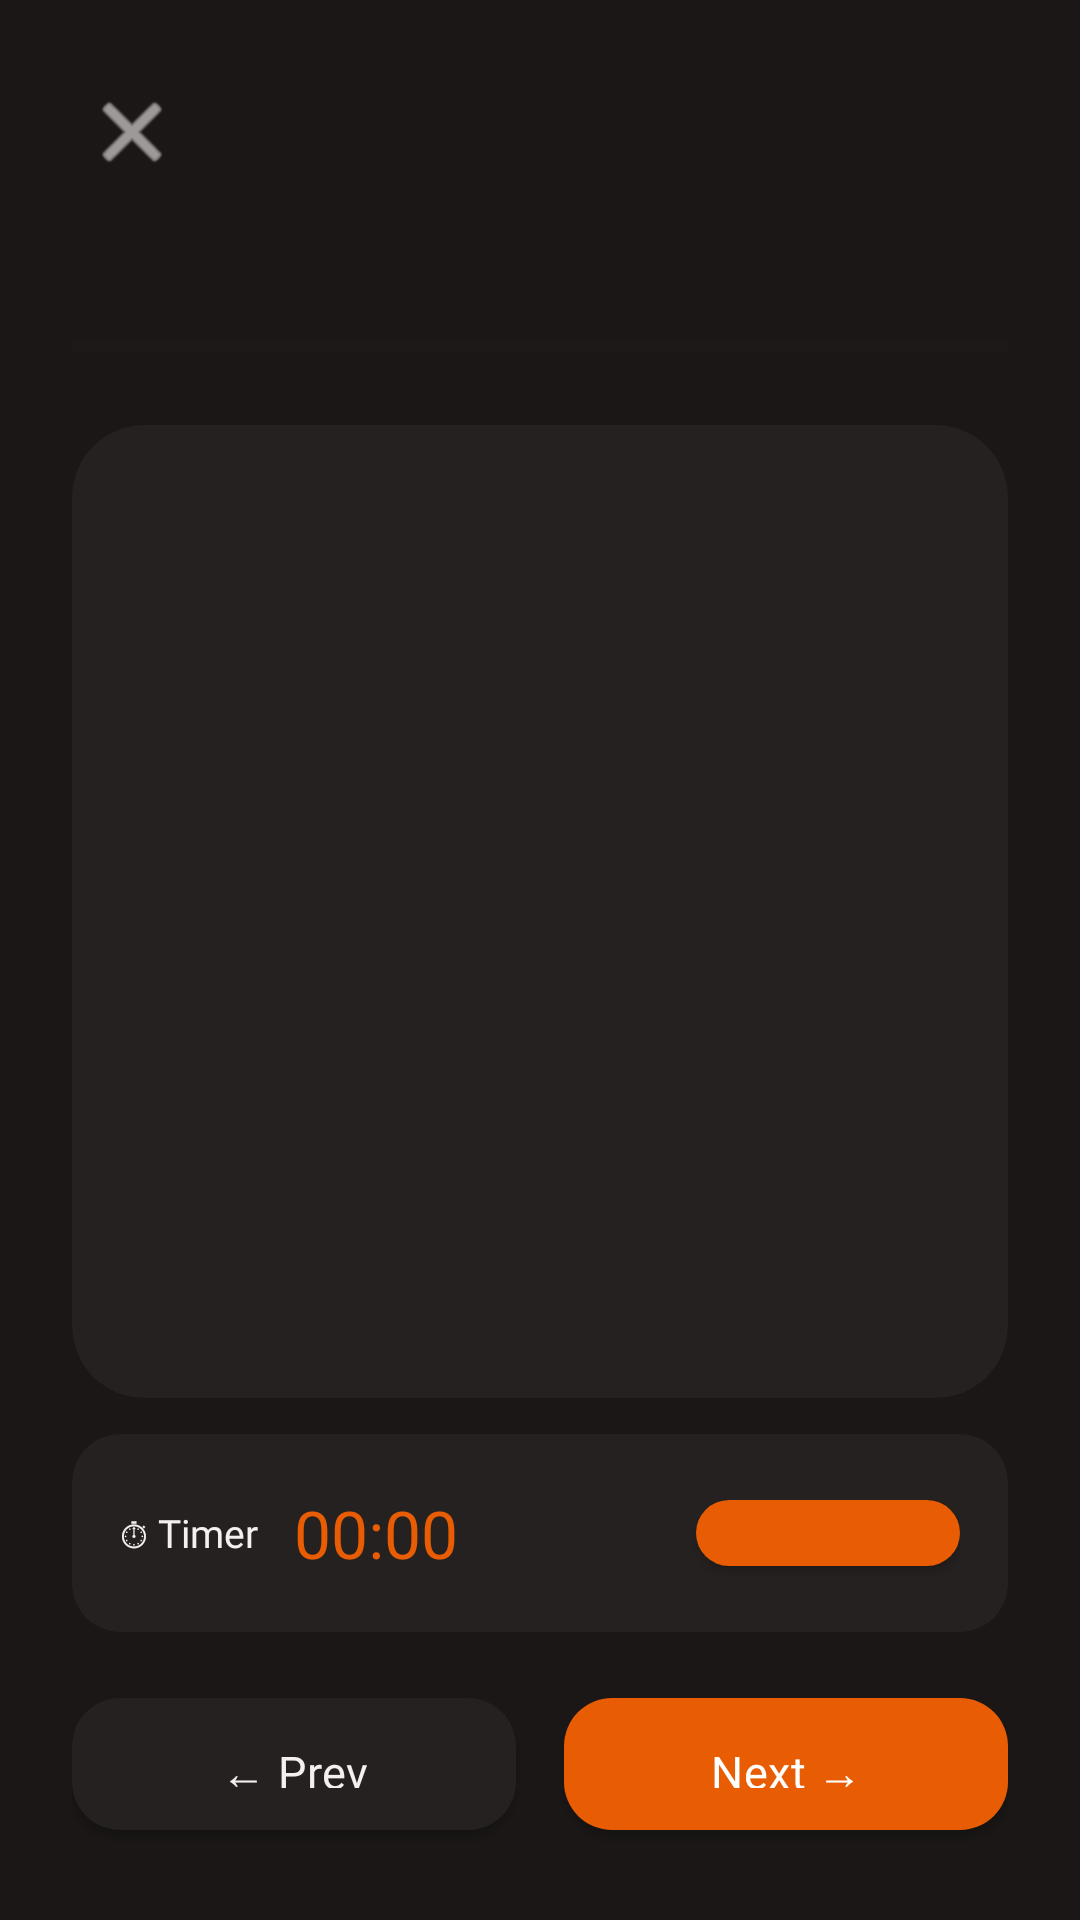

Icons on this 1080px x 1920px Android screen, each with its box as {"left": x1, "top": y1, "right": x2, "bottom": y2}:
close clear cancel: {"left": 102, "top": 102, "right": 162, "bottom": 162}
